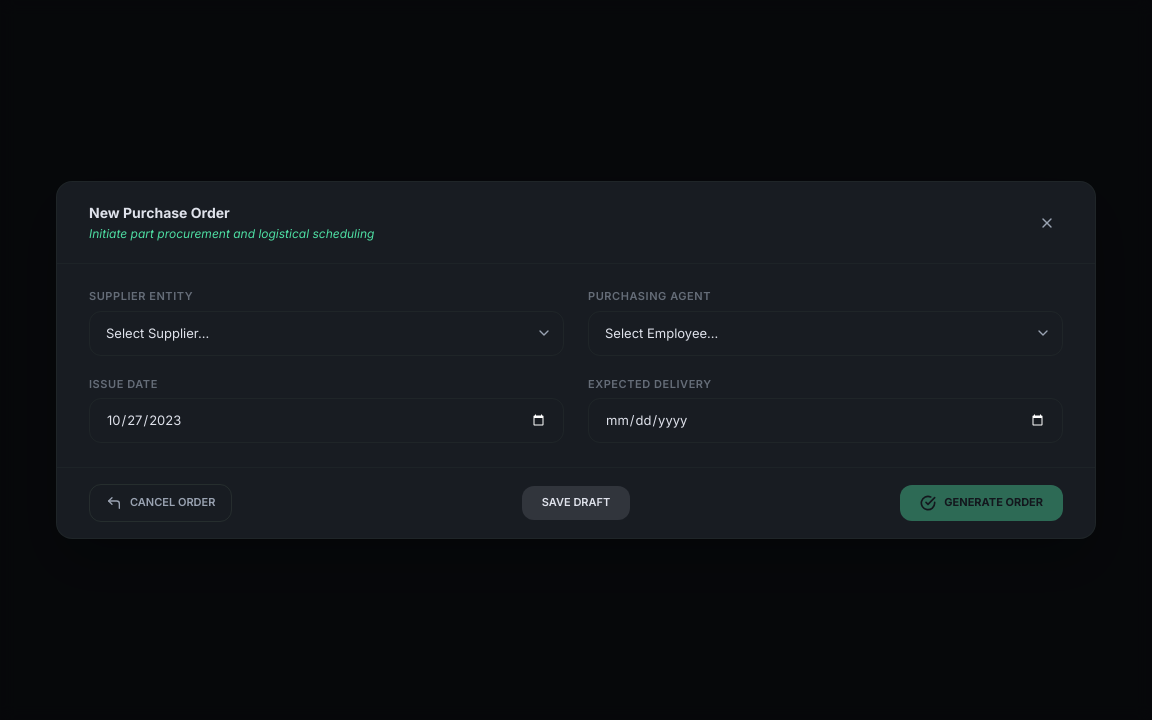
Test: PurchaseOrderFormModal 3.2 — Date Pickers e Validação › Expected Delivery igual à Issue Date — exibe mensagem de erro e aria-invalid
Step 1. Type "2023-10-27" into the date field labelled "Expected Delivery" → (826,420), box [588,398,1063,443]
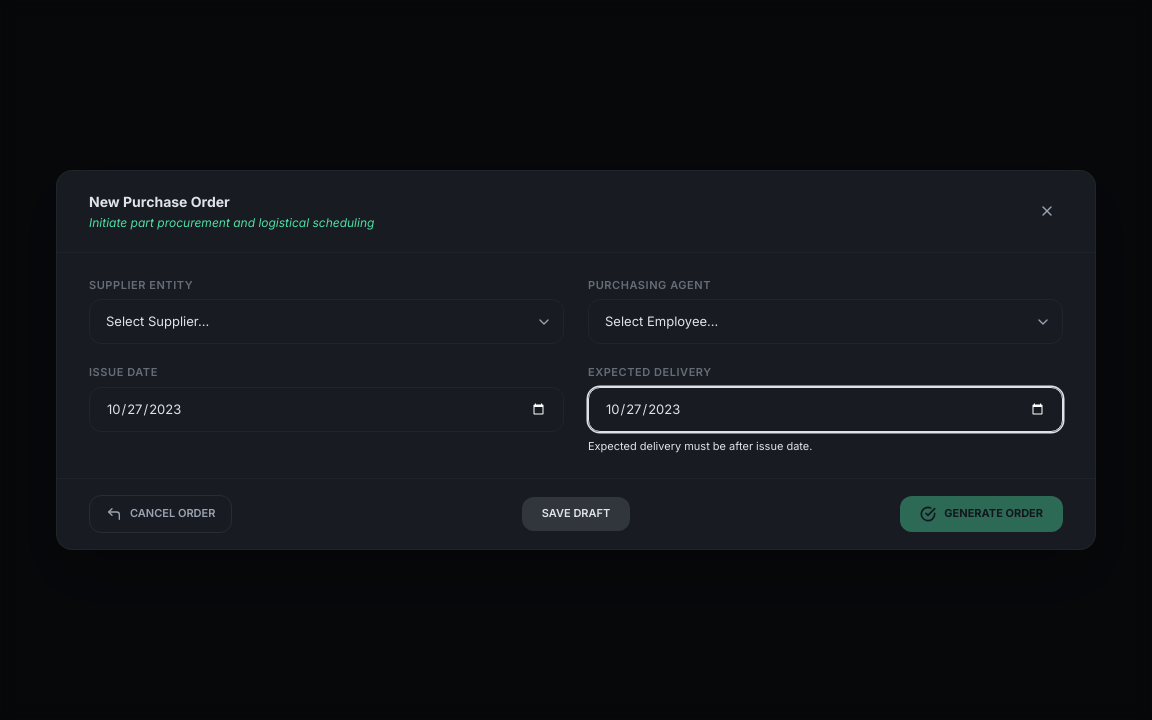
Expected: the message "Expected delivery must be after issue date." is shown, [588,439,812,453]
